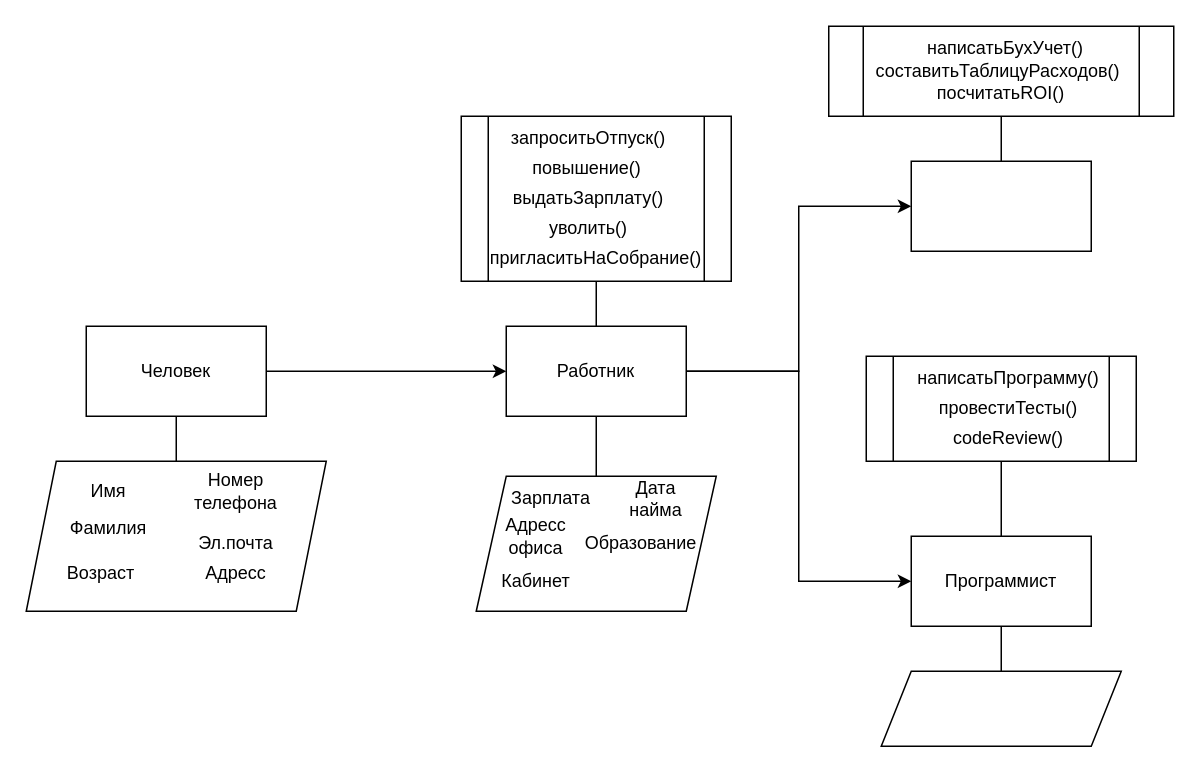
The diagram is 1200 pixels wide and 773 high, and some of its shapes have lost their labels. The shapes that lost their labels are listed below. From the top down, each one's centre as x and y in pixels, then its label:
At point (1000, 205): "Бухгалтер".
At point (1000, 708): "Язык программирования".
